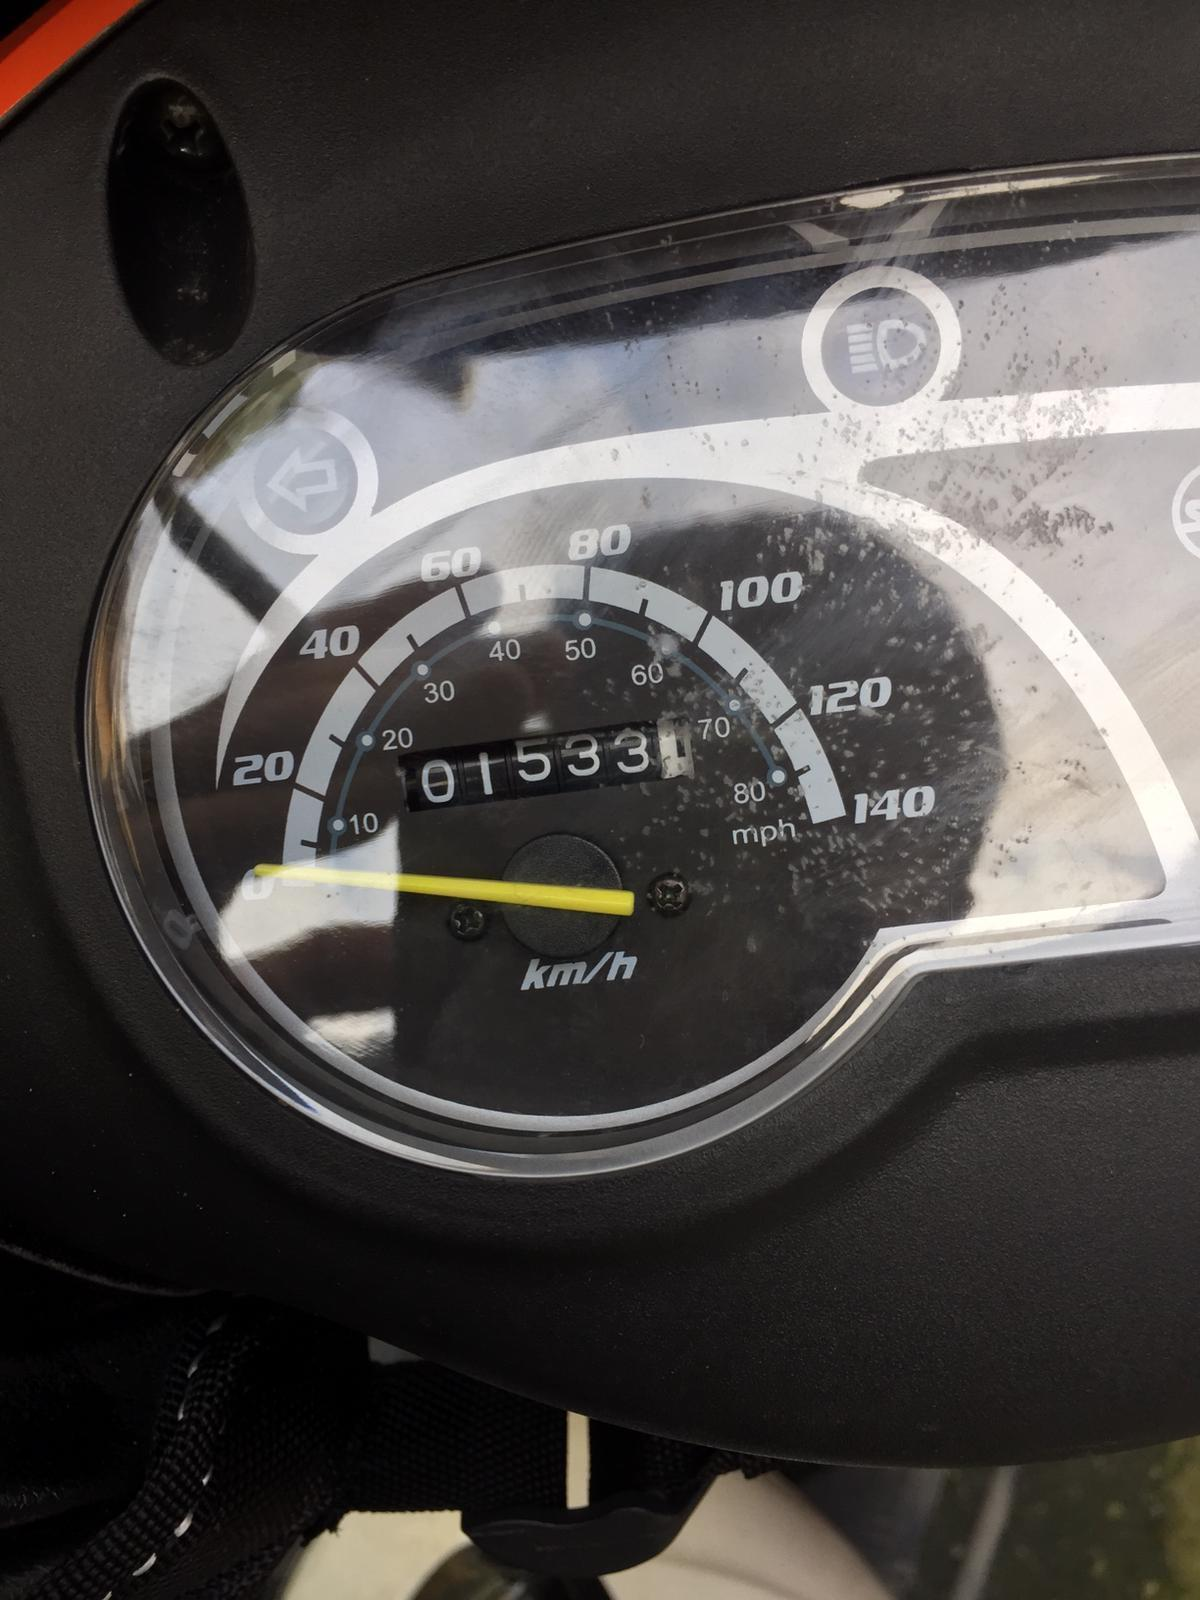0: (418, 755, 458, 805), (397, 724, 413, 750)
1: (470, 746, 495, 799), (666, 717, 691, 762)
3: (611, 727, 653, 775), (562, 731, 601, 779)
5: (514, 734, 552, 784)
odometer: (392, 713, 701, 816)
